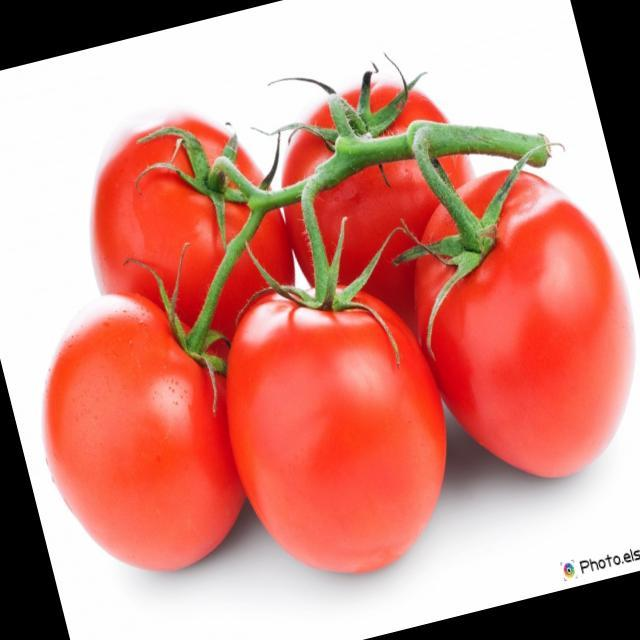TOMATO: (200, 256, 476, 592), (393, 148, 640, 498), (12, 275, 254, 596), (66, 96, 299, 330), (256, 39, 476, 270)
